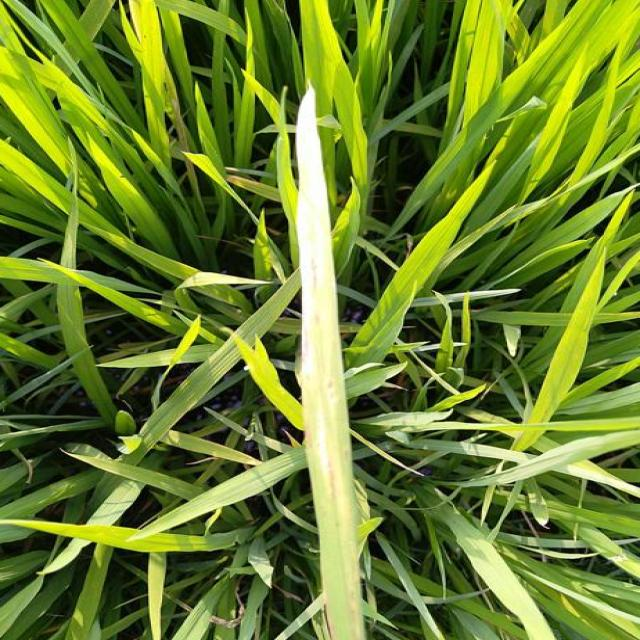Leaf Streak: (295, 88, 355, 519)
